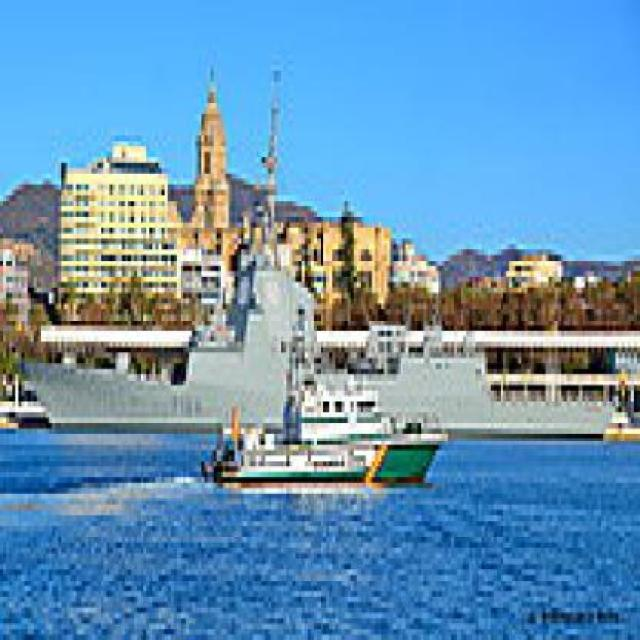warship2: (10, 169, 623, 441)
